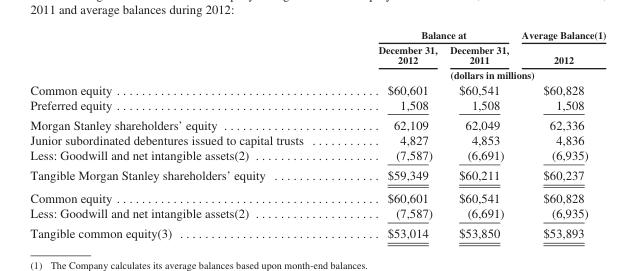table: (29, 28, 605, 240)
table column: (29, 28, 340, 240), (340, 28, 442, 240), (514, 28, 605, 240), (442, 28, 514, 240)
table column header: (29, 28, 605, 81)
table row: (29, 41, 605, 67), (29, 165, 605, 186), (29, 186, 605, 205), (29, 96, 605, 114), (29, 114, 605, 132), (29, 147, 605, 165), (29, 205, 605, 223), (29, 223, 605, 240), (29, 81, 605, 96), (29, 132, 605, 147), (29, 67, 605, 81), (29, 28, 605, 41)
table spanning cell: (340, 67, 605, 81), (514, 28, 605, 67), (340, 28, 514, 41)
